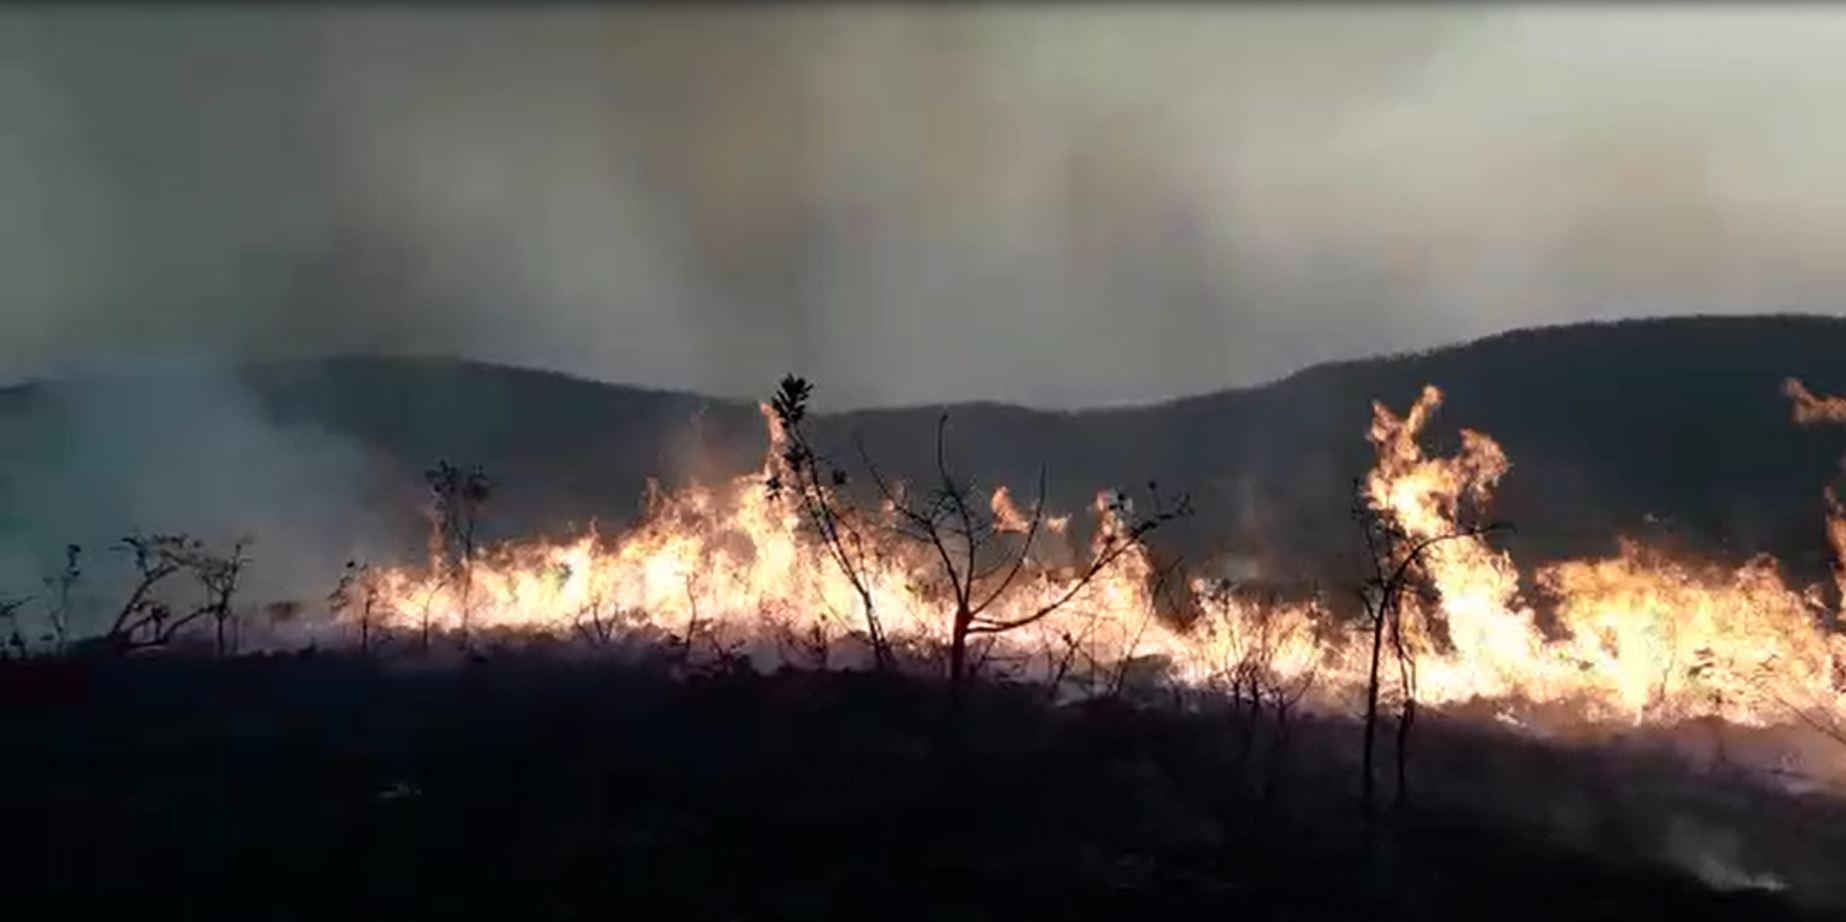Fire: (391, 399, 1839, 722)
